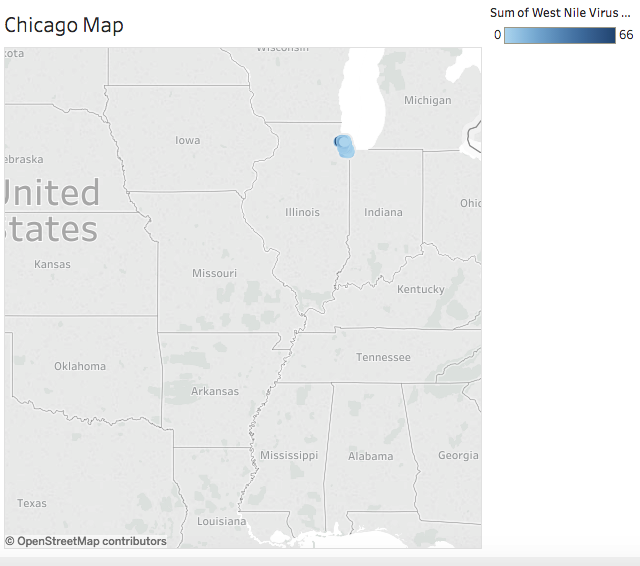

What the dashboard file says about the page in this screenshot:
{"tool":"tableau","page":{"name":"Chicago West Nile Virus","canvas":[650,860],"ordinal":0},"visuals":[{"type":"worksheet","title":"Sheet 5","mark":"Automatic","rows":["Latitude"],"cols":["Longitude"],"box":[0,0,490,860]},{"type":"legend","title":"Sheet 5","param":"[federated.0cehzy91jz5om112zfkbl01itgv7].[sum:WnvPresent:qk]","box":[490,0,160,97.1]}]}

Visuals, with their boxes on the page's 650x860 design canvas (x1, y1, x2, y2). These are canvas units, not pixel positions in the 640x566 screenshot, which may show the page scaled, cropped or inside an application window:
"Sheet 5" worksheet: 0:0:490:860
"Sheet 5" legend: 490:0:650:97
